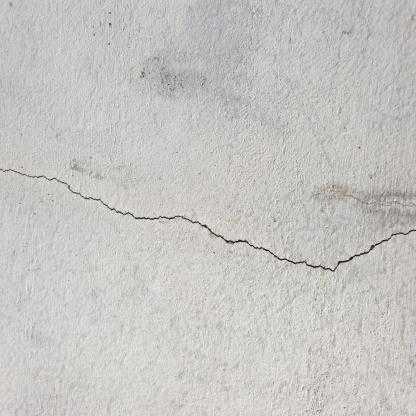crack: (2, 168, 416, 272)
